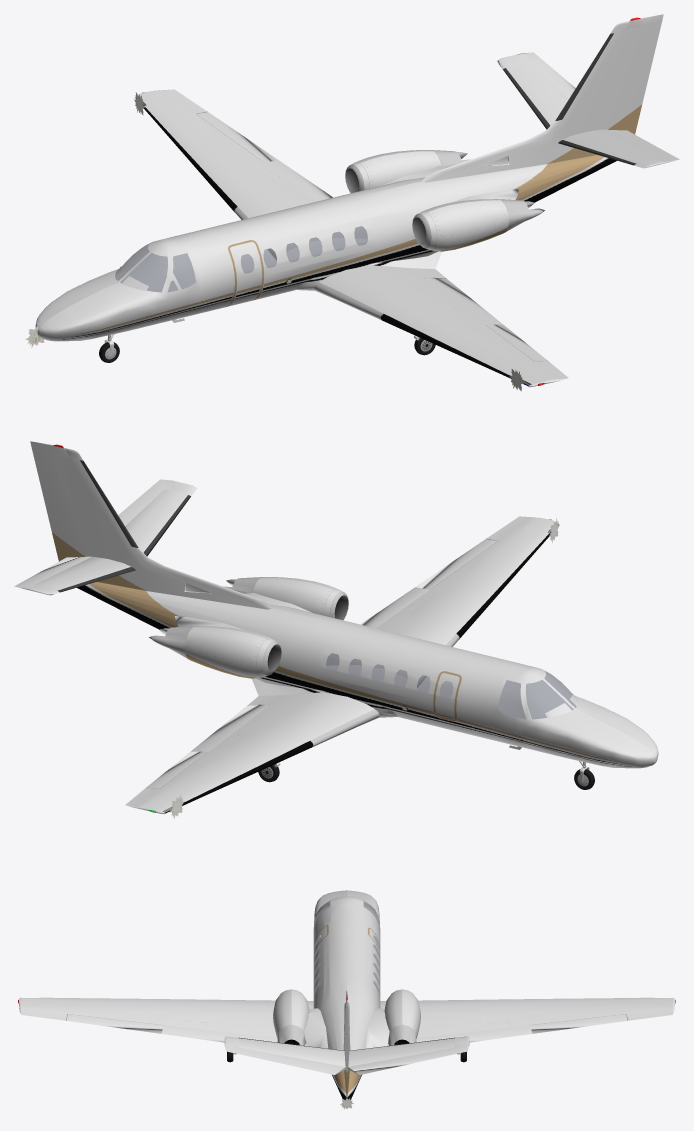
The model's file is bravo.glb.
3 renders of one model, top to bottom at view 1: azimuth 30°, elevation 25°; view 2: azimuth 150°, elevation 25°; view 3: azimuth 270°, elevation 25°, orthographic. The views are drawn at different scales.
Size of the model in its own units: 14.9 by 4.75 by 16.02.
Materials: 15 (10 with a texture image).
